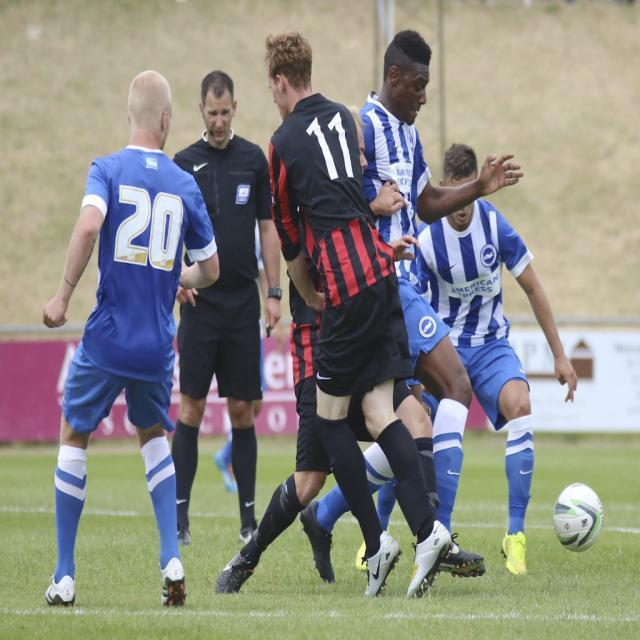football: (545, 473, 614, 562)
